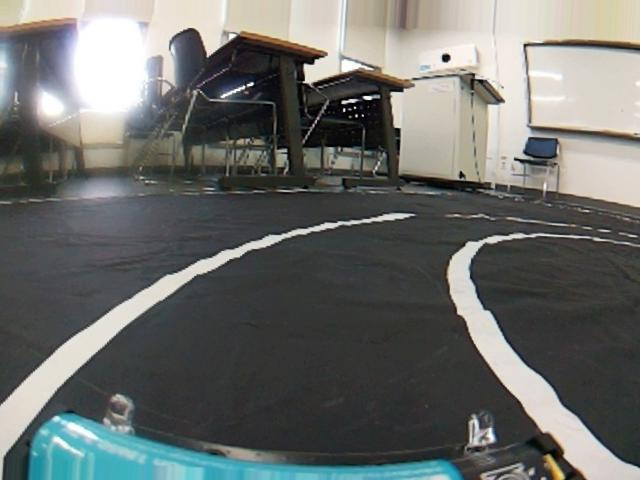right: (3, 188, 640, 480)
